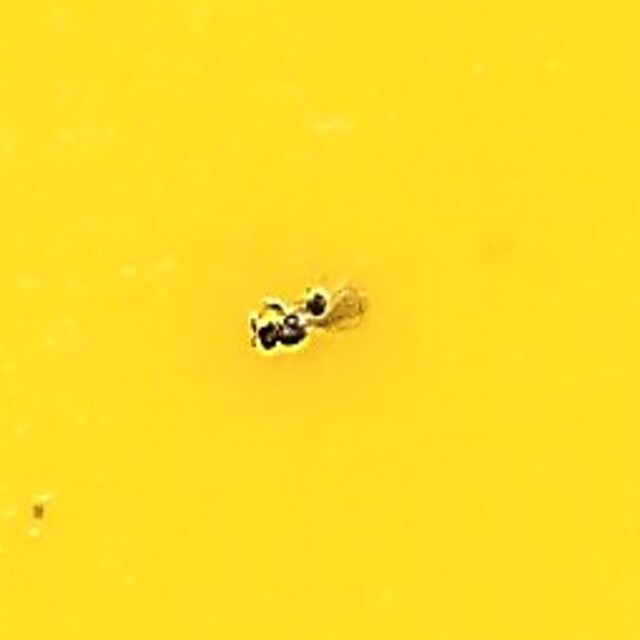Hymenoptera: (251, 284, 389, 356)
